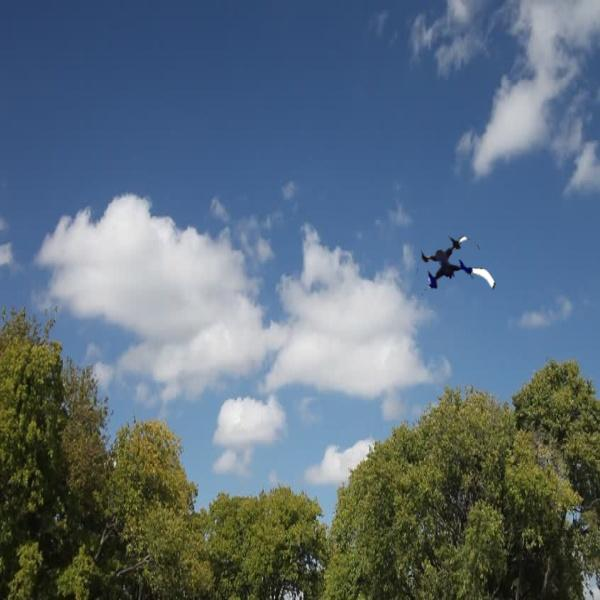drone: (408, 232, 494, 318)
